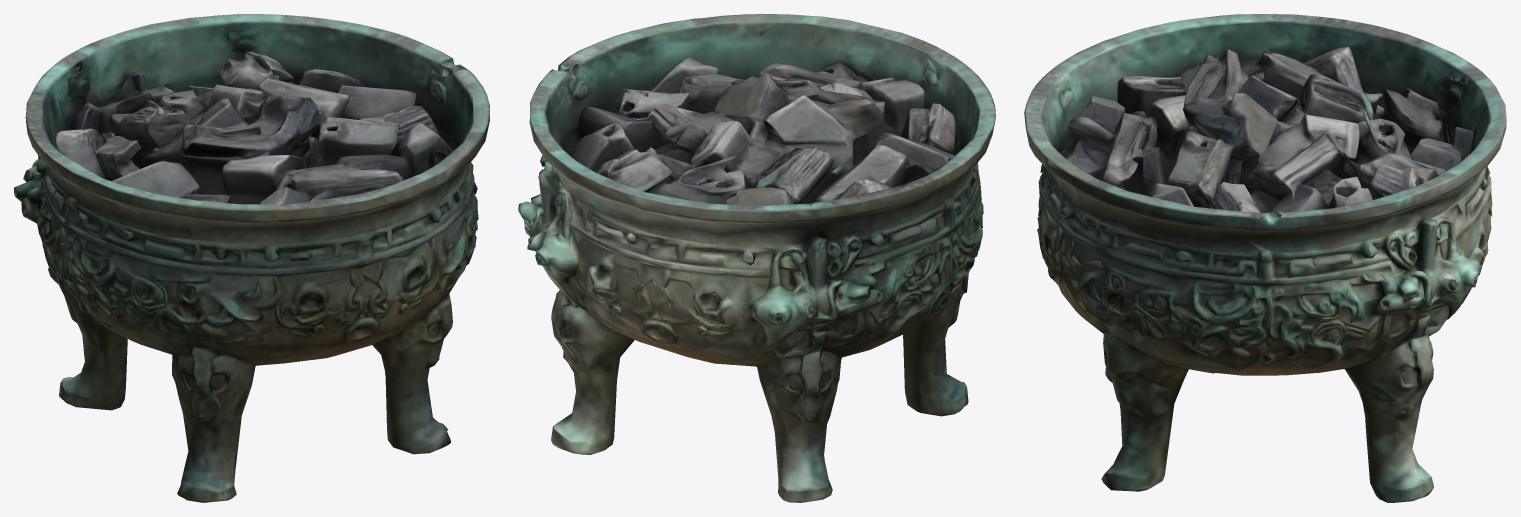
File: brazier-mid.glb
3 views of the same model, side by side, from view 1: azimuth 30°, elevation 25°; view 2: azimuth 150°, elevation 25°; view 3: azimuth 270°, elevation 25° (orthographic). The views are drawn at different scales.
Size of the model in its own units: 0.9982 by 0.7905 by 0.9978.
Materials: 1 (1 with a texture image).
